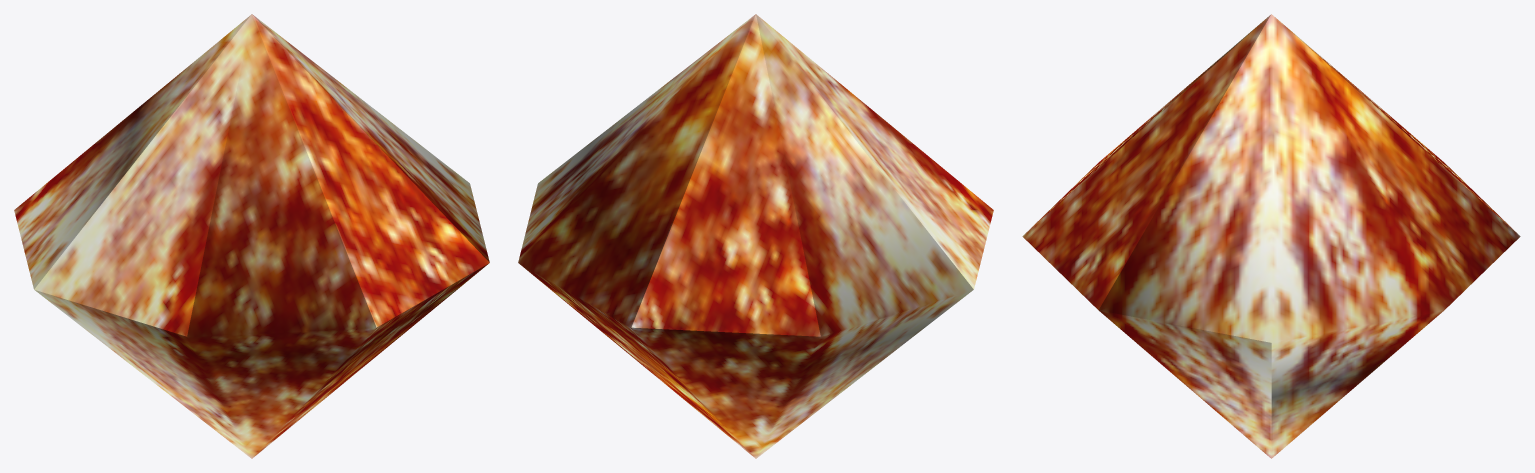
File: Item0901.FBX
3 renders of one model, left to right at view 1: azimuth 30°, elevation 25°; view 2: azimuth 150°, elevation 25°; view 3: azimuth 270°, elevation 25°, orthographic.
Visible parts, largest first — view 1: Box02; view 2: Box02; view 3: Box02.
Boxes of the visible parts, x1,y1,x2,y2 form: Box02: [14, 14, 489, 458]; Box02: [518, 14, 993, 458]; Box02: [1022, 14, 1520, 458].
Bounding box in the file's own units: 15.15 × 14.78 × 15.
Materials: 2 (2 with a texture image).
